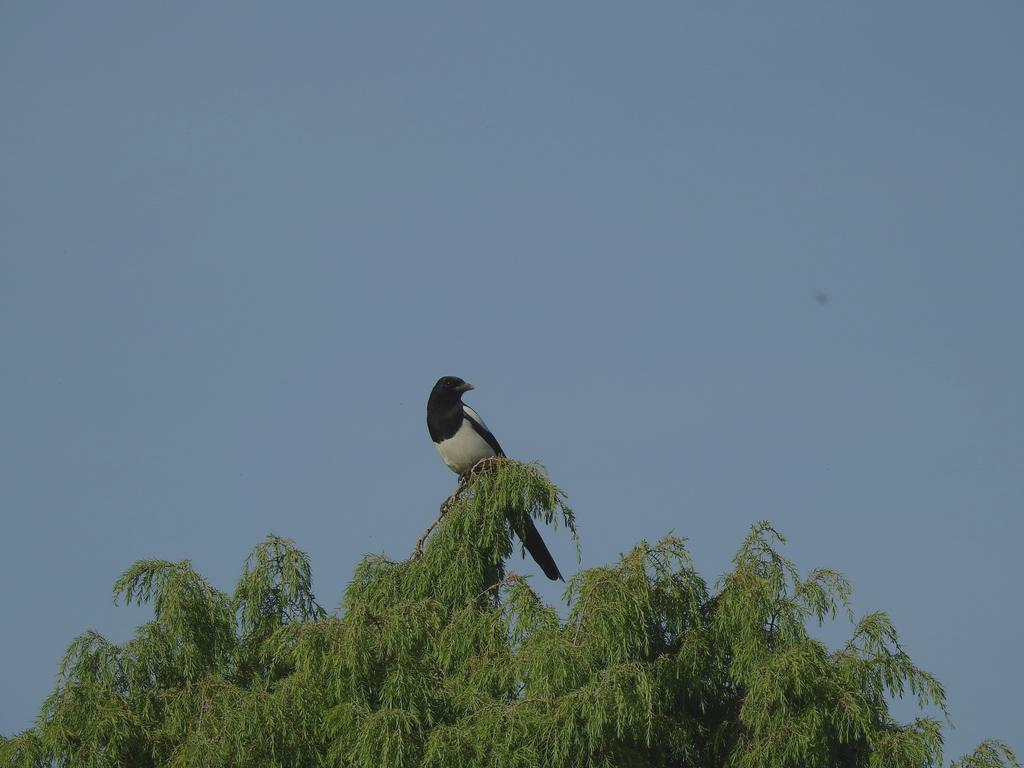PicaPica: (426, 375, 566, 582)
